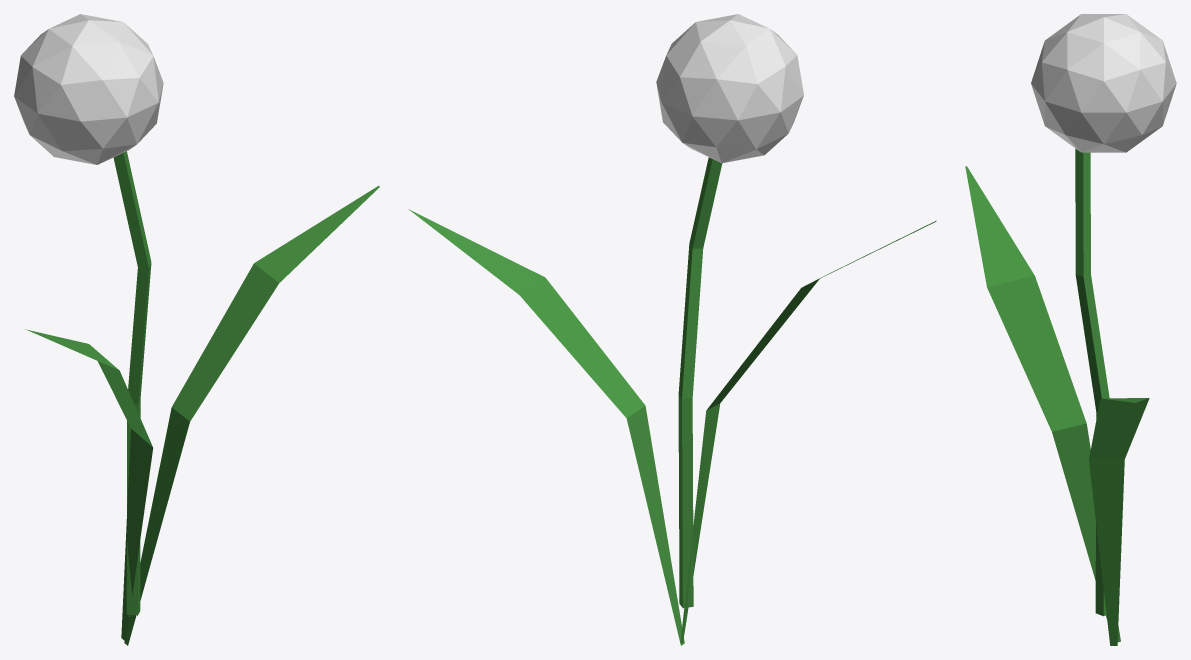
The model's file is Flower.fbx.
The picture shows the model from 3 angles, left to right: view 1: azimuth 30°, elevation 25°; view 2: azimuth 150°, elevation 25°; view 3: azimuth 270°, elevation 25°; orthographic projection. The views are drawn at different scales.
Parts seen in each view (by area): view 1: BallFlower; view 2: BallFlower; view 3: BallFlower.
Boxes of the visible parts, x1,y1,x2,y2 form: BallFlower: (14, 14, 379, 645); BallFlower: (409, 14, 936, 645); BallFlower: (965, 14, 1176, 645).
Bounding box in the file's own units: 177 × 242 × 76.35.
